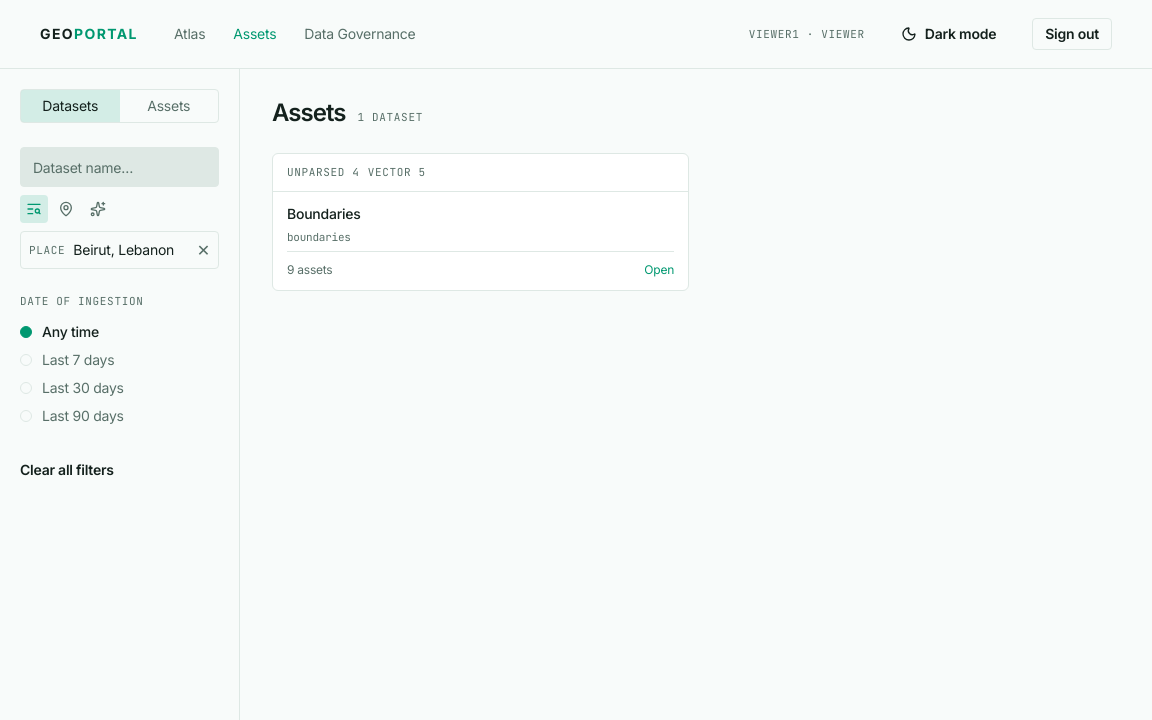
Test: filtering by area › opens a dataset found in the area to all of its files
Step 1. Click the button with aria-label "Open Boundaries" → (480, 173), box [272,153,689,291]
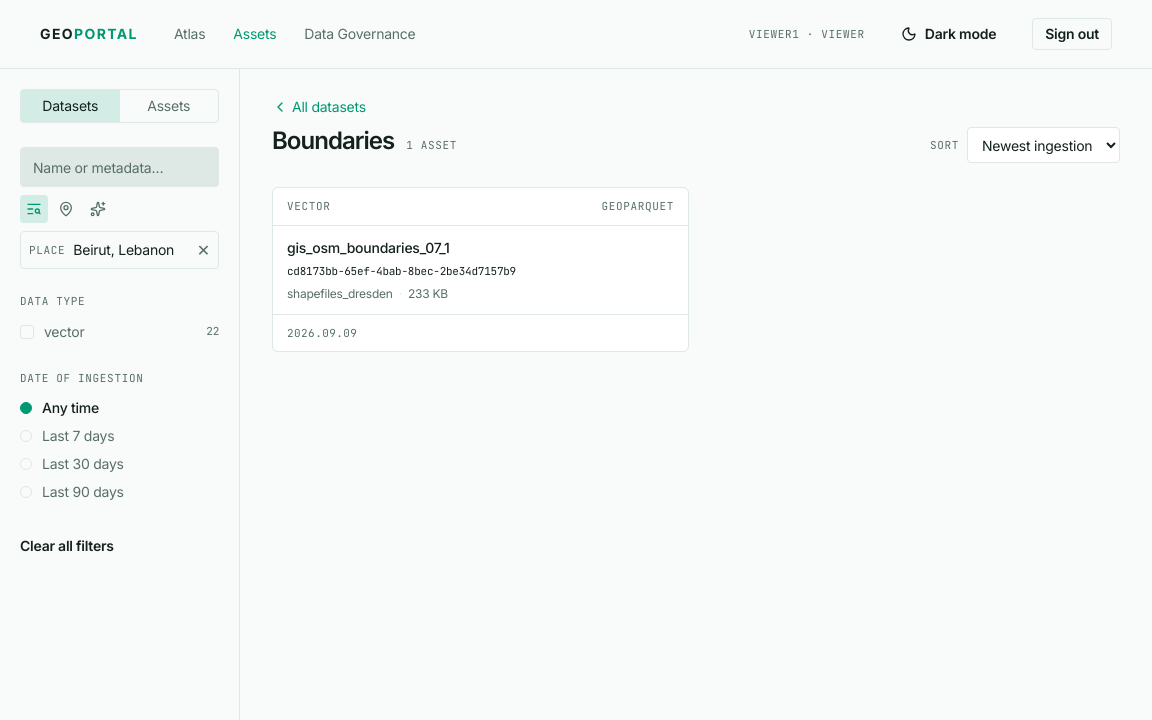
Expected: the text "gis_osm_boundaries_07_1" is shown, [287,239,450,256]
